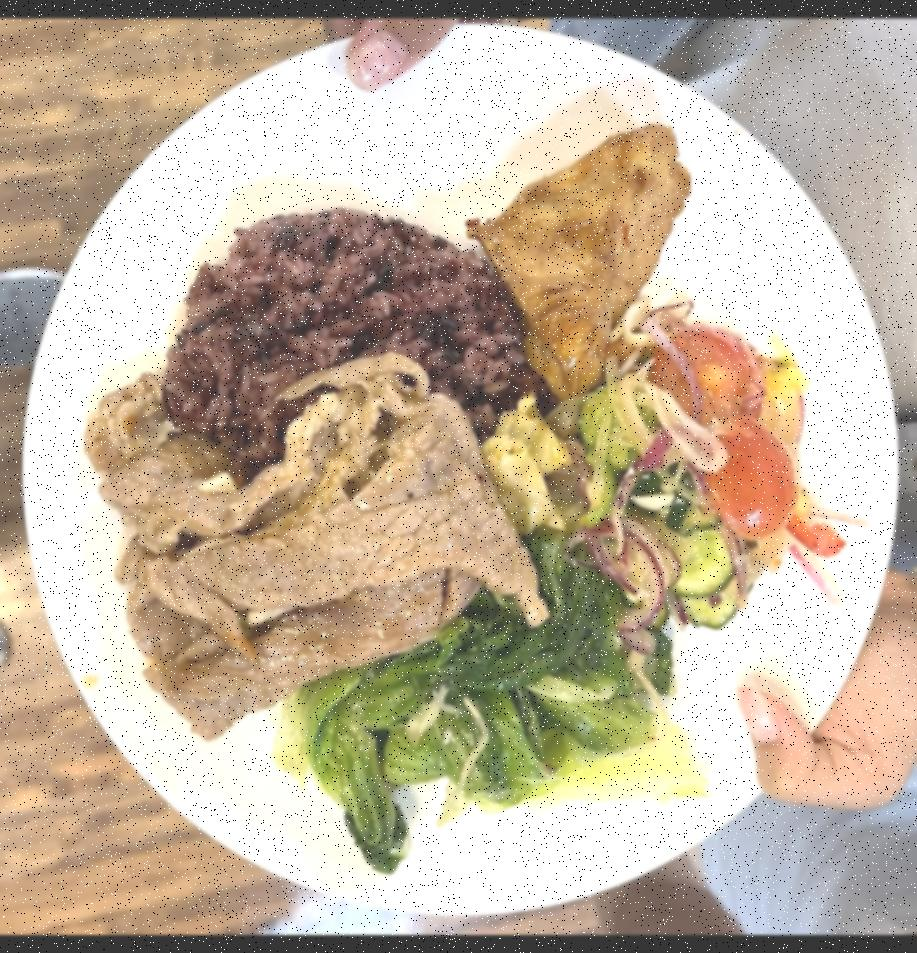big fried chicken leg: (20, 27, 884, 930)
braised fish: (165, 202, 528, 511)
braised fish fillet: (272, 551, 718, 860), (602, 316, 834, 674), (474, 123, 696, 406)
braised pork: (86, 358, 548, 727)
